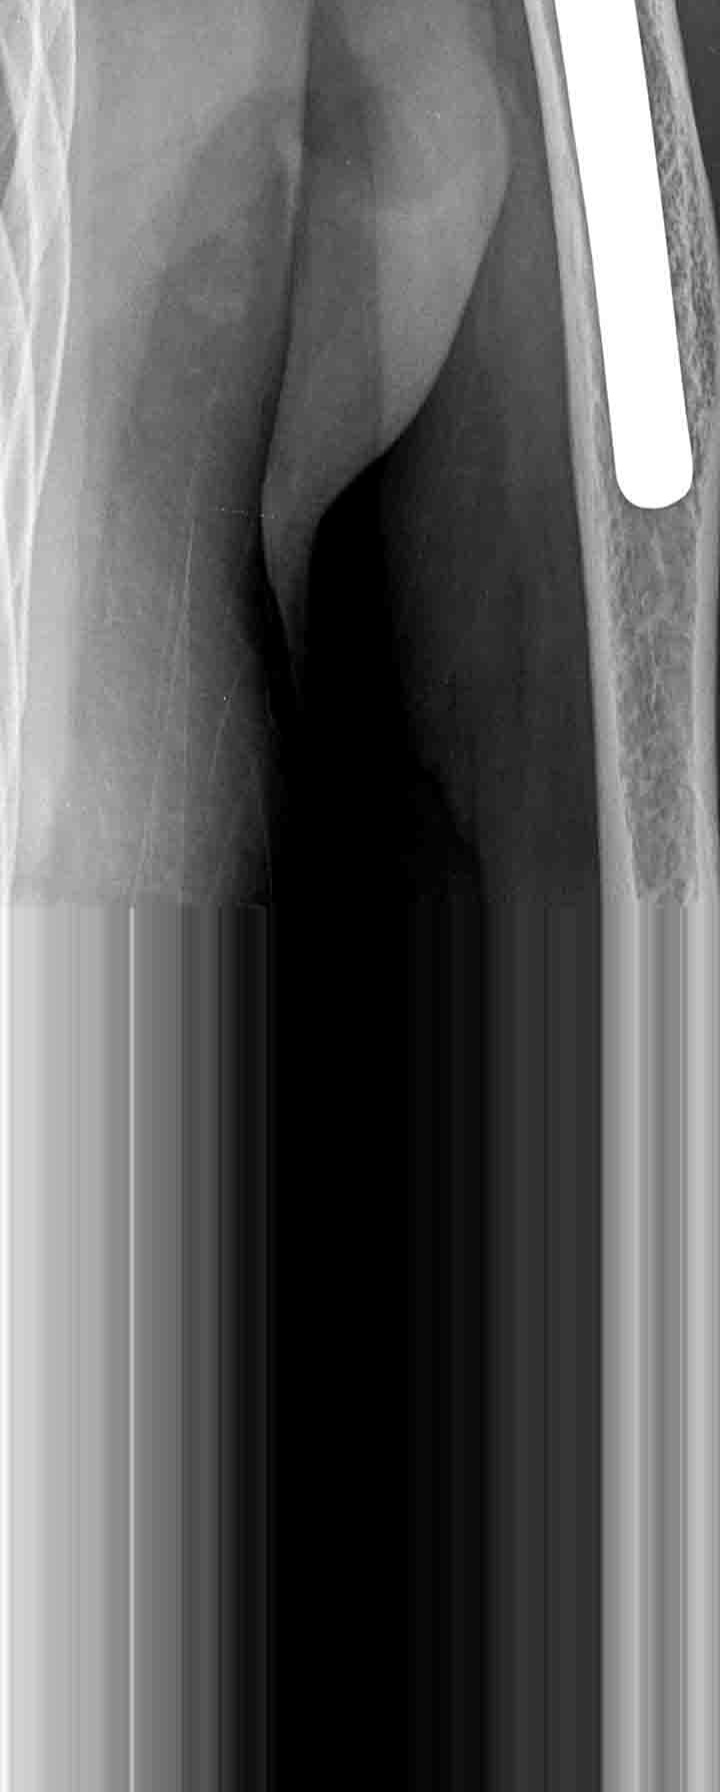Shoulder-Reverse-DJO: (501, 1, 703, 529)
